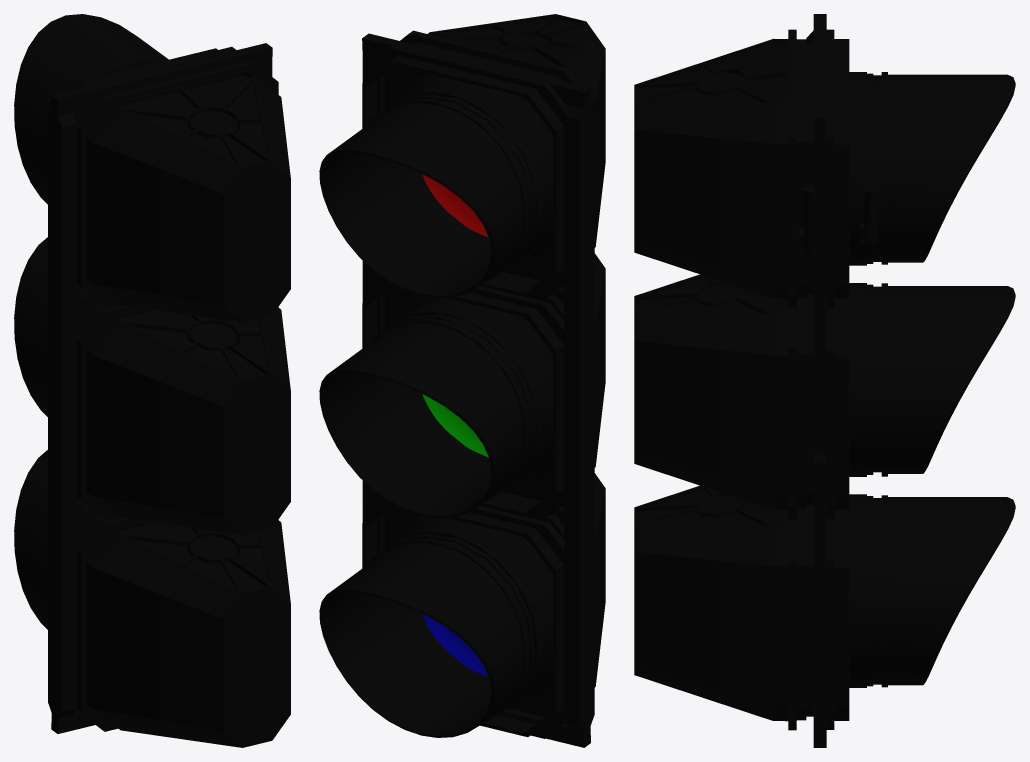
The model's file is SM_TrafficLight_Low.fbx.
3 renders of one model, left to right at view 1: azimuth 30°, elevation 25°; view 2: azimuth 150°, elevation 25°; view 3: azimuth 270°, elevation 25°, orthographic. The views are drawn at different scales.
Parts seen in each view (by area): view 1: Cube_009; view 2: Cube_009; view 3: Cube_009.
Part boxes in pixels (bbox=[...]): Cube_009: bbox=[14, 14, 290, 747]; Cube_009: bbox=[319, 14, 605, 747]; Cube_009: bbox=[634, 14, 1015, 747].
Size of the model in its own units: 27.78 by 78.38 by 42.95.
